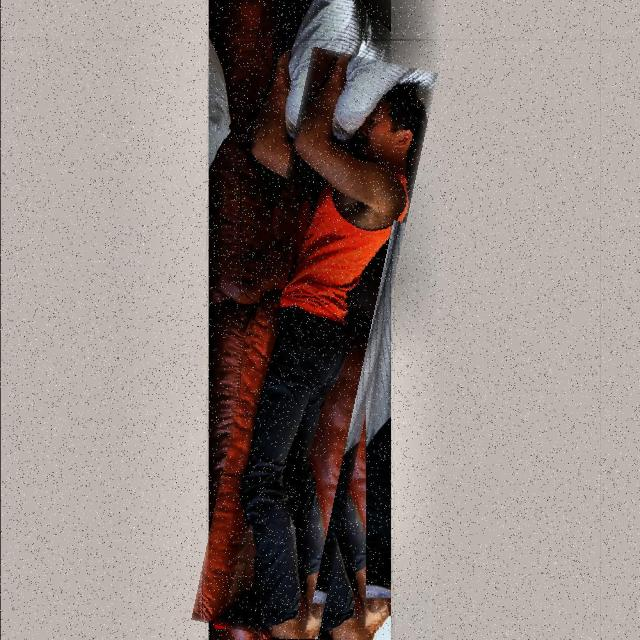Not_Supine: (241, 54, 428, 640)
